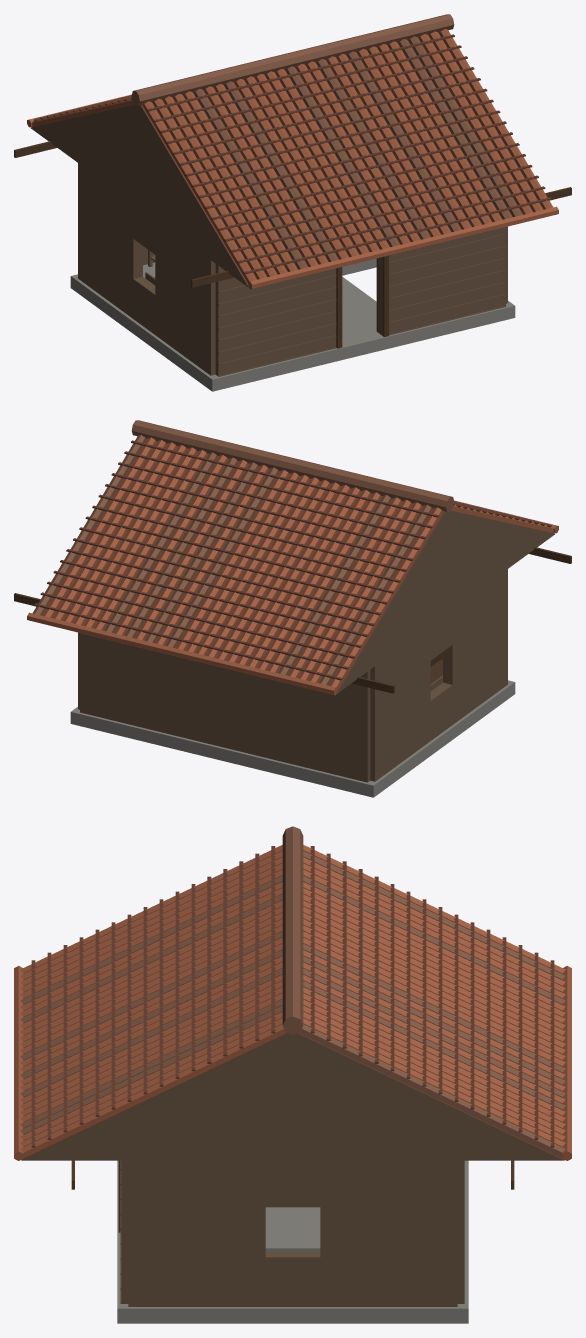
File: SM_Kulube_7.fbx
The picture shows the model from 3 angles, top to bottom: view 1: azimuth 30°, elevation 25°; view 2: azimuth 150°, elevation 25°; view 3: azimuth 270°, elevation 25°; orthographic projection. The views are drawn at different scales.
Visible parts, largest first — view 1: Kulube_7; view 2: Kulube_7; view 3: Kulube_7.
Boxes of the visible parts, x1,y1,x2,y2 form: Kulube_7: [14, 14, 571, 391]; Kulube_7: [14, 420, 571, 797]; Kulube_7: [14, 826, 571, 1323].
Bounding box in the file's own units: 990 × 624 × 1016.
